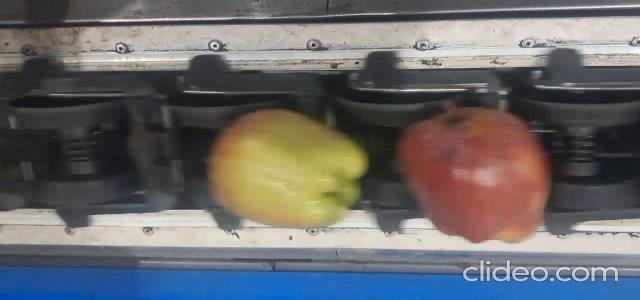apple: (398, 107, 550, 243), (209, 109, 368, 227)
